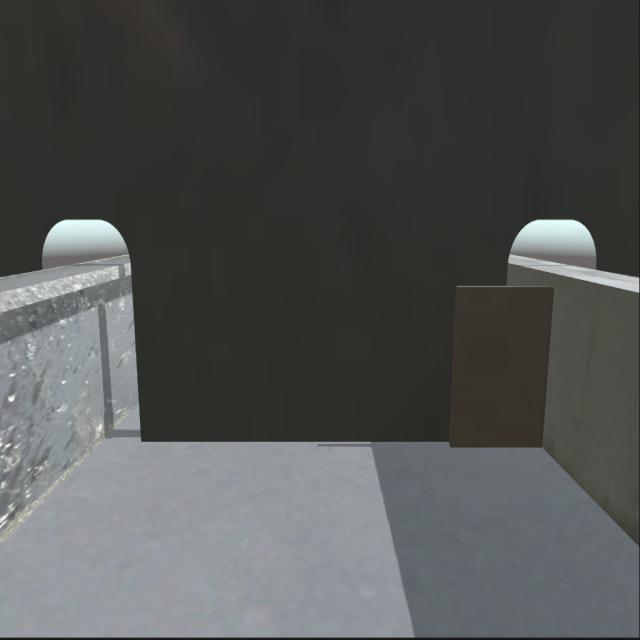fillet_yong_jeop_jang: (139, 431, 545, 450)
longi_yong_jeop_jang: (536, 285, 556, 449)
plate_CP01: (448, 284, 555, 456)
